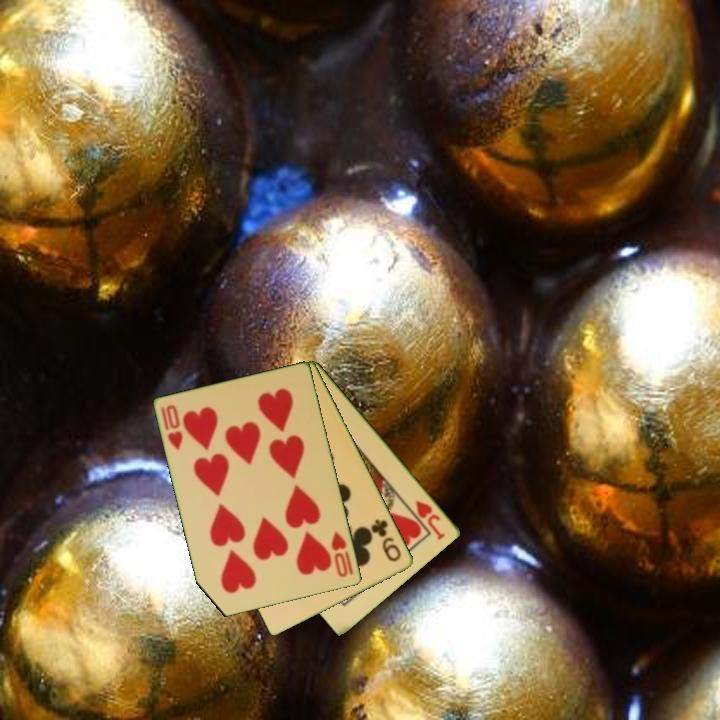10h: (157, 401, 186, 453), (328, 527, 356, 580)
9c: (368, 516, 404, 565)
Jh: (412, 497, 448, 543)
